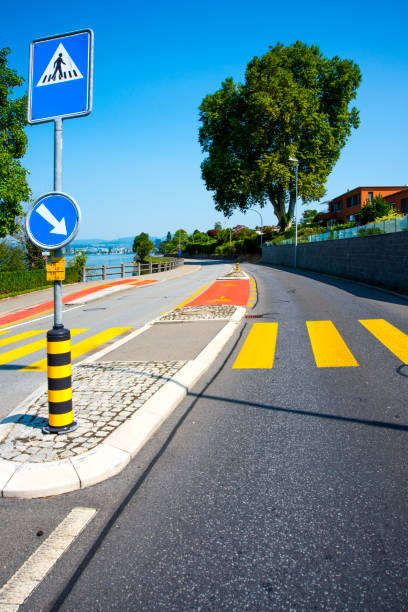yaya_gecidi: (26, 28, 91, 124)
